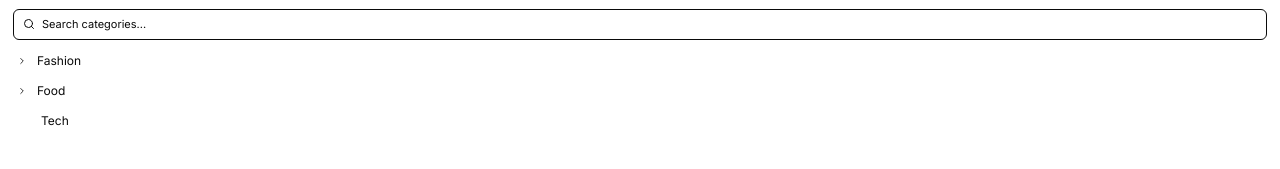
NestedMultiselectFilter > expand/collapse › legacy sub_options also rendered when expanded
This screenshot has width=1280, height=169.
Click the button "Food".
click(22, 90)  # box [17,82,1233,100]
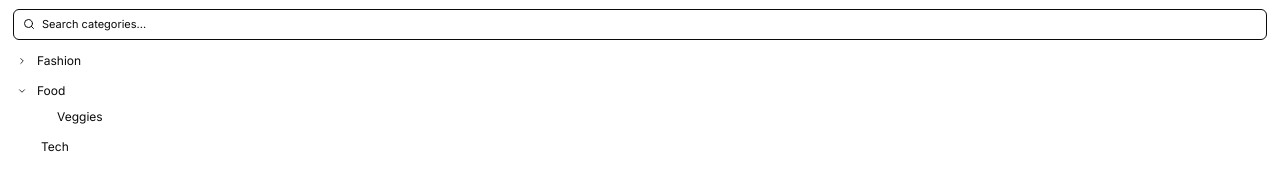
Result: the text "Veggies" is shown at [57,108,103,124]
